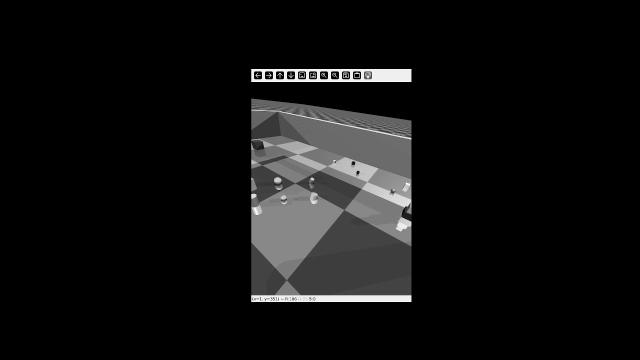cilindro: (250, 190, 259, 209), (310, 191, 320, 203), (309, 176, 316, 185)
cuadrado: (251, 138, 265, 151), (403, 182, 410, 188), (350, 161, 356, 165), (332, 160, 337, 163)
esfera: (273, 177, 282, 187), (279, 195, 287, 202), (390, 188, 397, 193), (354, 169, 360, 174)
rectangulo: (401, 205, 412, 221)
